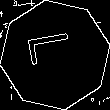L_E: (28, 35, 82, 75)
